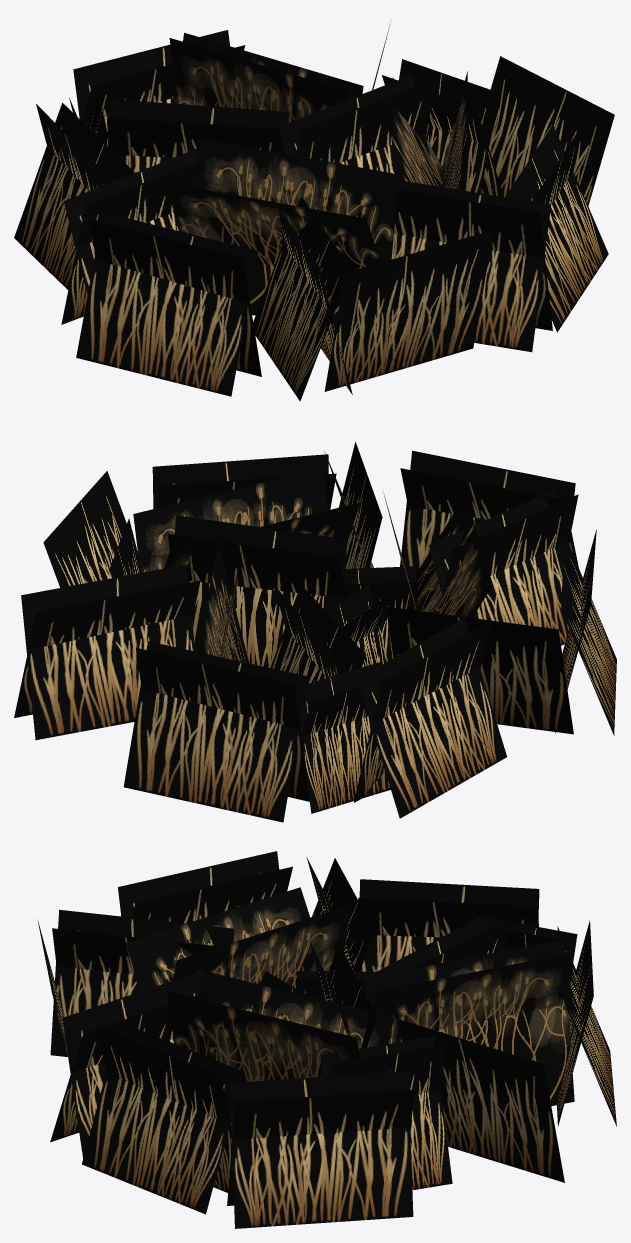
File: YellowGrass_Patch.fbx
3 views of the same model, one above another, from view 1: azimuth 30°, elevation 25°; view 2: azimuth 150°, elevation 25°; view 3: azimuth 270°, elevation 25° (orthographic).
Visible parts, largest first — view 1: YellowGrassPatch; view 2: YellowGrassPatch; view 3: YellowGrassPatch.
Part boxes in pixels (<box>): YellowGrassPatch: <box>14,24,614,401</box>; YellowGrassPatch: <box>14,441,616,822</box>; YellowGrassPatch: <box>37,851,616,1228</box>.
Size of the model in its own units: 283 by 282 by 80.23.
